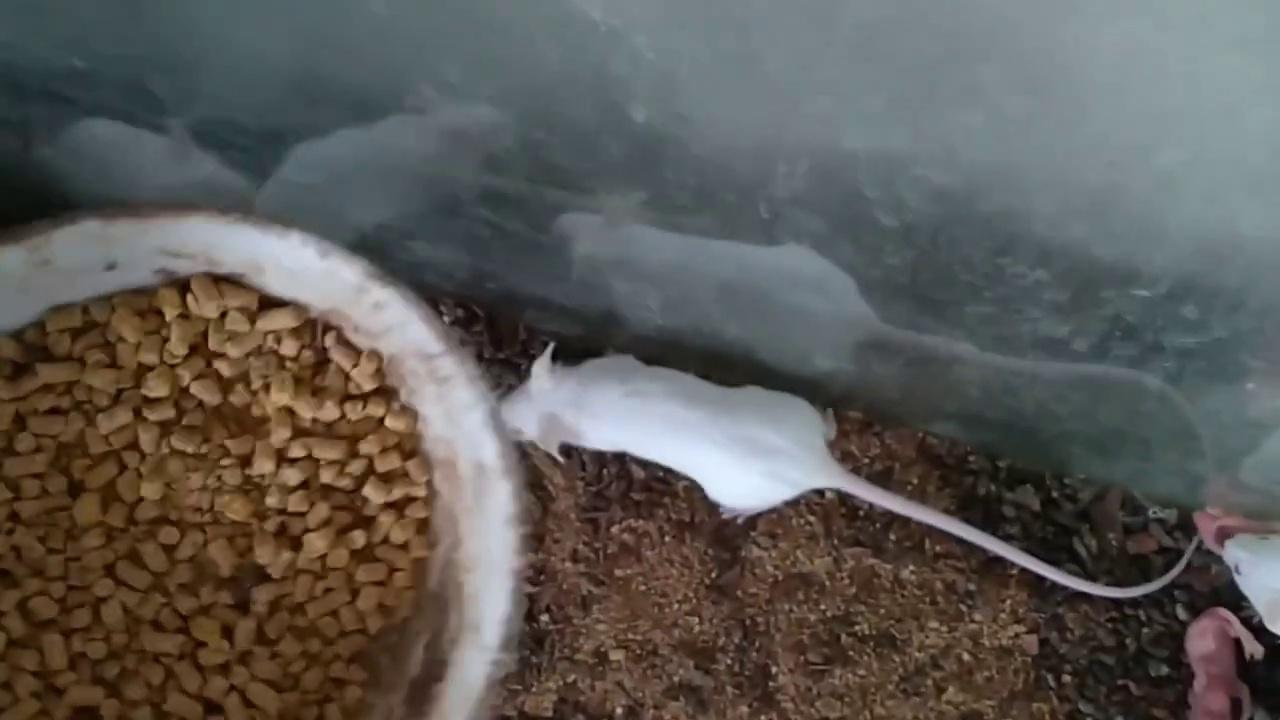rat: (507, 347, 1198, 586), (1221, 526, 1280, 634)
